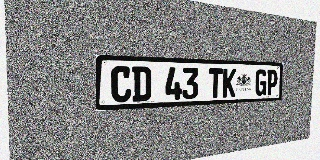3: (182, 68, 198, 99)
4: (165, 67, 182, 100)
C: (111, 66, 131, 103)
D: (132, 66, 151, 102)
G: (255, 69, 267, 96)
K: (222, 68, 236, 98)
P: (266, 69, 278, 95)
T: (208, 68, 223, 98)
